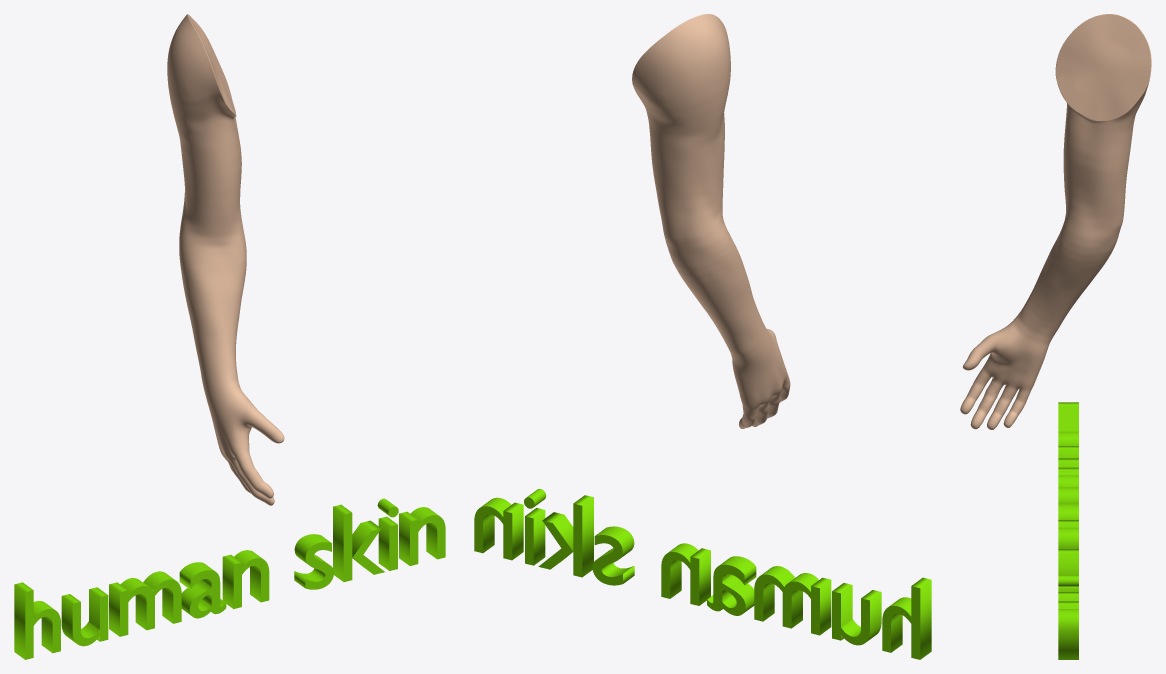
Rendered from arm skin no.1.gltf.
3 views of the same model, side by side, from view 1: azimuth 30°, elevation 25°; view 2: azimuth 150°, elevation 25°; view 3: azimuth 270°, elevation 25° (orthographic). The views are drawn at different scales.
Visible parts, largest first — view 1: 11535_arm_V3_, Text; view 2: 11535_arm_V3_, Text; view 3: 11535_arm_V3_, Text.
Boxes of the visible parts, x1=… form: 11535_arm_V3_: x1=167, y1=14, x2=284, y2=505; Text: x1=14, y1=498, x2=445, y2=659; 11535_arm_V3_: x1=632, y1=14, x2=790, y2=428; Text: x1=474, y1=489, x2=931, y2=659; 11535_arm_V3_: x1=960, y1=14, x2=1151, y2=429; Text: x1=1058, y1=402, x2=1078, y2=659.
Size of the model in its own units: 4.44 by 5.78 by 1.85.
